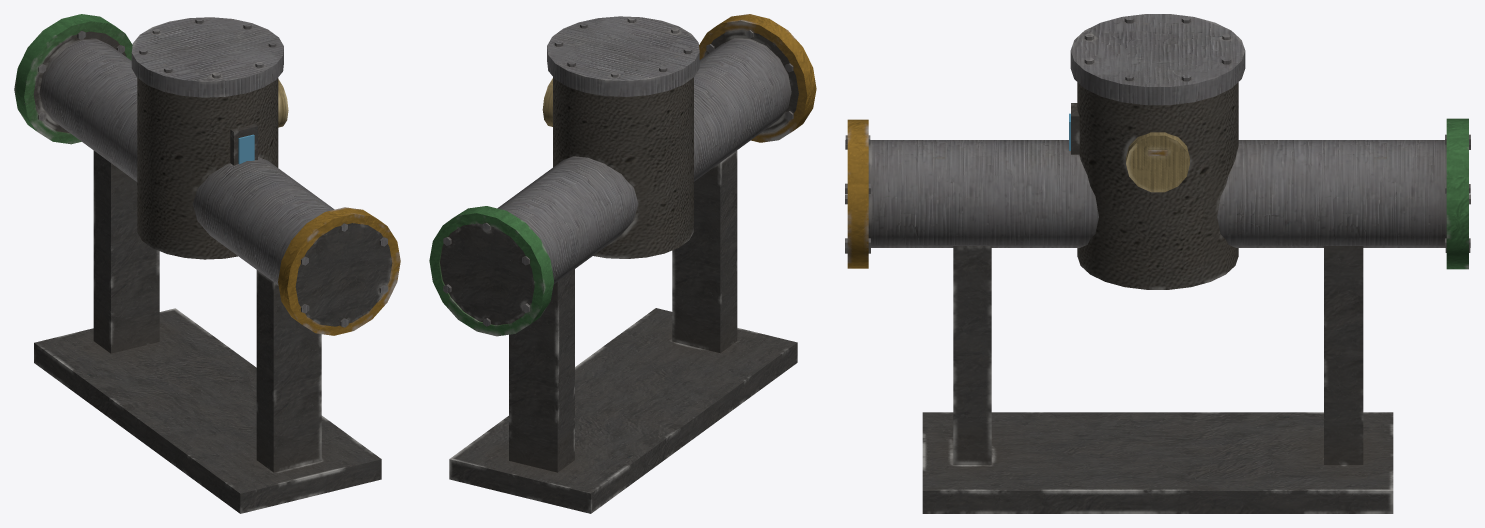
File: feValveSeparator_HD.fbx
3 views of the same model, side by side, from view 1: azimuth 30°, elevation 25°; view 2: azimuth 150°, elevation 25°; view 3: azimuth 270°, elevation 25° (orthographic). The views are drawn at different scales.
Visible parts, largest first — view 1: feValveSeparator_Base; view 2: feValveSeparator_Base; view 3: feValveSeparator_Base.
Boxes of the visible parts, box(x1,y1,x2,y2) form: feValveSeparator_Base: box(14, 14, 400, 513); feValveSeparator_Base: box(429, 14, 816, 513); feValveSeparator_Base: box(845, 14, 1470, 513).
Size of the model in its own units: 0.3012 by 0.7625 by 1.01.
Materials: 2 (1 with a texture image).
